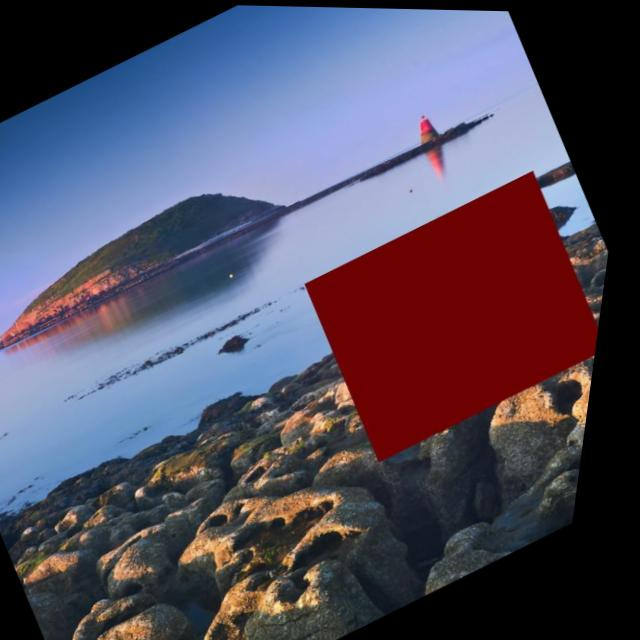RedSquare: (276, 154, 624, 476)
